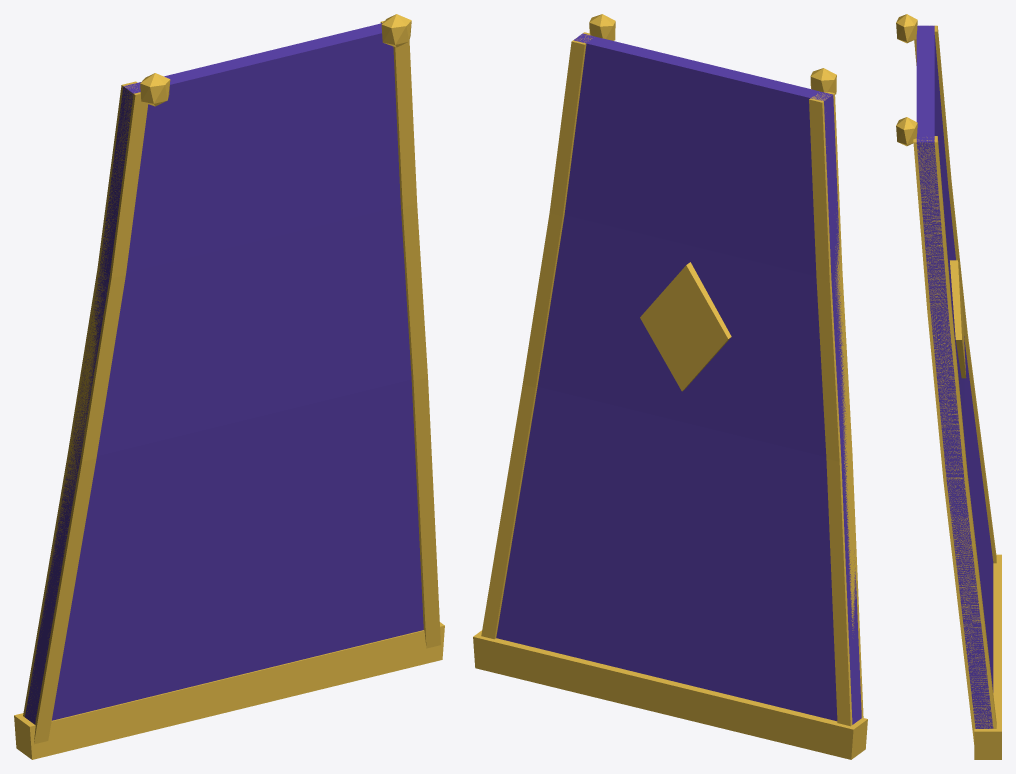
File: gear_cape_magic.glb
3 renders of one model, left to right at view 1: azimuth 30°, elevation 25°; view 2: azimuth 150°, elevation 25°; view 3: azimuth 270°, elevation 25°, orthographic. The views are drawn at different scales.
Visible parts, largest first — view 1: gear_cape_magic; view 2: gear_cape_magic; view 3: gear_cape_magic.
Boxes of the visible parts, x1,y1,x2,y2 form: gear_cape_magic: (14,14,444,759); gear_cape_magic: (473,14,867,759); gear_cape_magic: (896,14,1001,759).
Bounding box in the file's own units: 0.516 × 0.825 × 0.1304.
